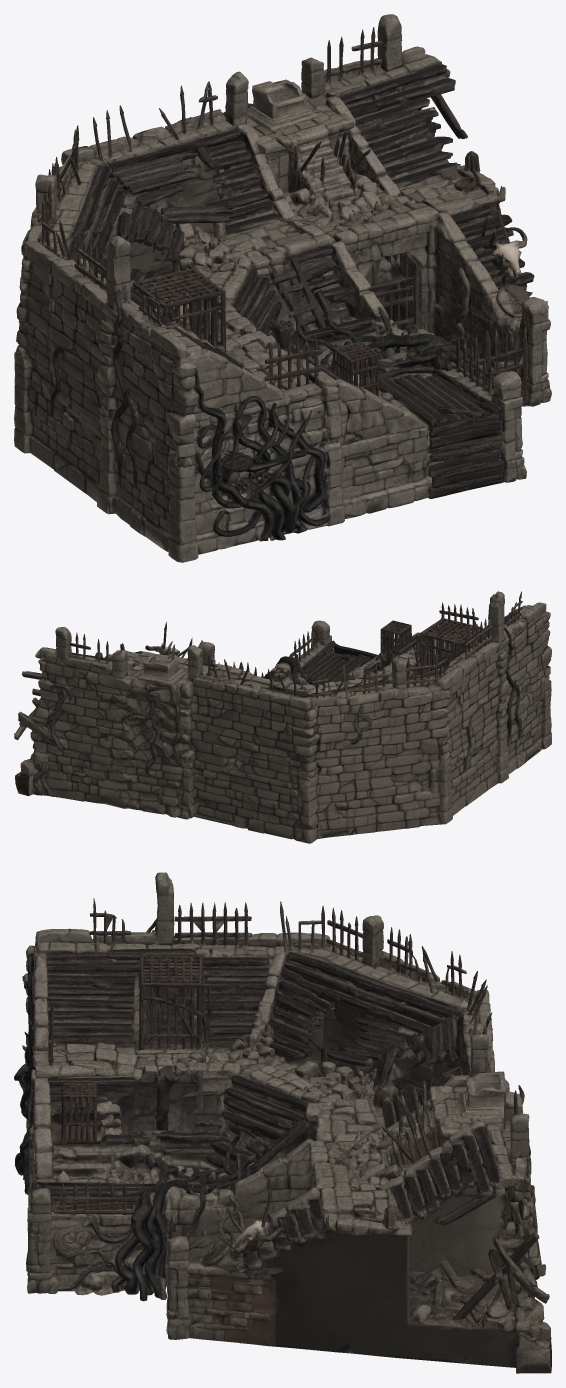
Rendered from arena_corner_3.glb.
3 renders of one model, top to bottom at view 1: azimuth 30°, elevation 25°; view 2: azimuth 150°, elevation 25°; view 3: azimuth 270°, elevation 25°, orthographic. The views are drawn at different scales.
Visible parts, largest first — view 1: mesh_node; view 2: mesh_node; view 3: mesh_node.
Boxes of the visible parts, x1,y1,x2,y2 form: mesh_node: (14,14,551,562); mesh_node: (14,591,551,843); mesh_node: (14,872,551,1373).
Size of the model in its own units: 1.9 by 0.9366 by 1.74.
Materials: 1 (1 with a texture image).
